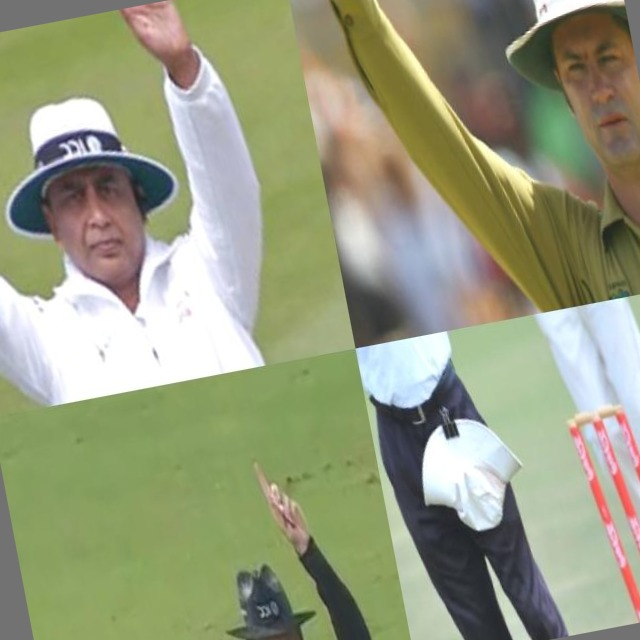Out: (111, 417, 416, 640)
Six: (0, 0, 356, 418), (285, 0, 640, 348)
Wide: (356, 297, 640, 554)
